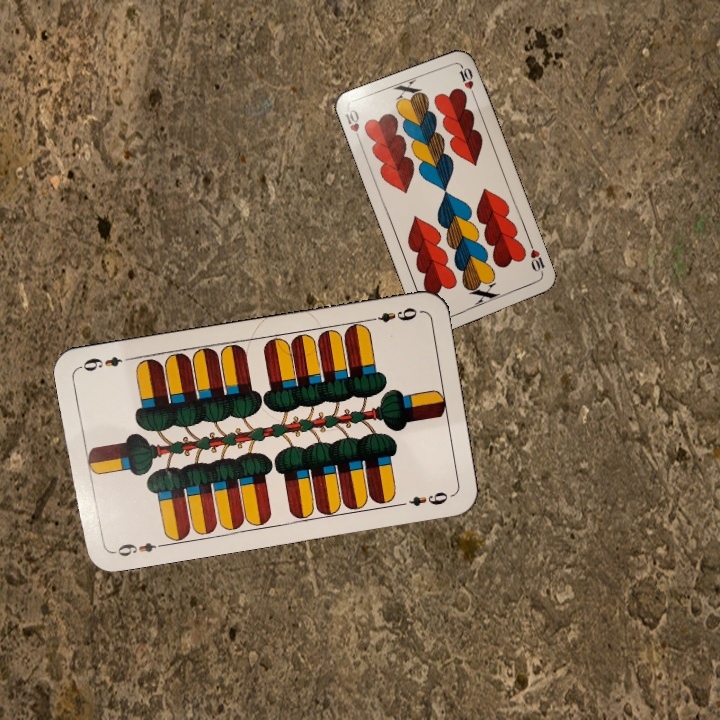E9: (108, 538, 167, 559), (364, 303, 420, 325)
H10: (341, 106, 364, 146), (525, 239, 548, 278)
